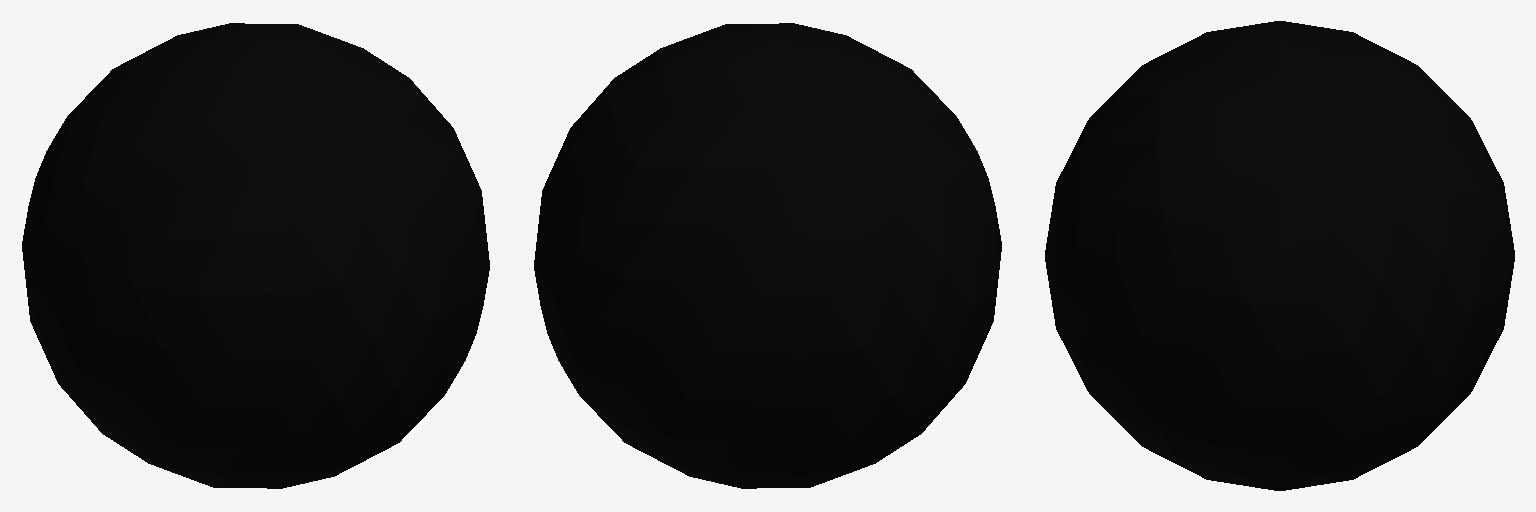
Rendered from icosphere_seethrough.obj.
The picture shows the model from 3 angles: view 1: azimuth 30°, elevation 25°; view 2: azimuth 150°, elevation 25°; view 3: azimuth 270°, elevation 25°; orthographic projection.
Visible parts, largest first — view 1: Icosphere; view 2: Icosphere; view 3: Icosphere.
Boxes of the visible parts, <box> form: Icosphere: <box>22,23,489,488</box>; Icosphere: <box>534,23,1001,488</box>; Icosphere: <box>1045,21,1514,490</box>.
Size of the model in its own units: 40 by 40 by 40.